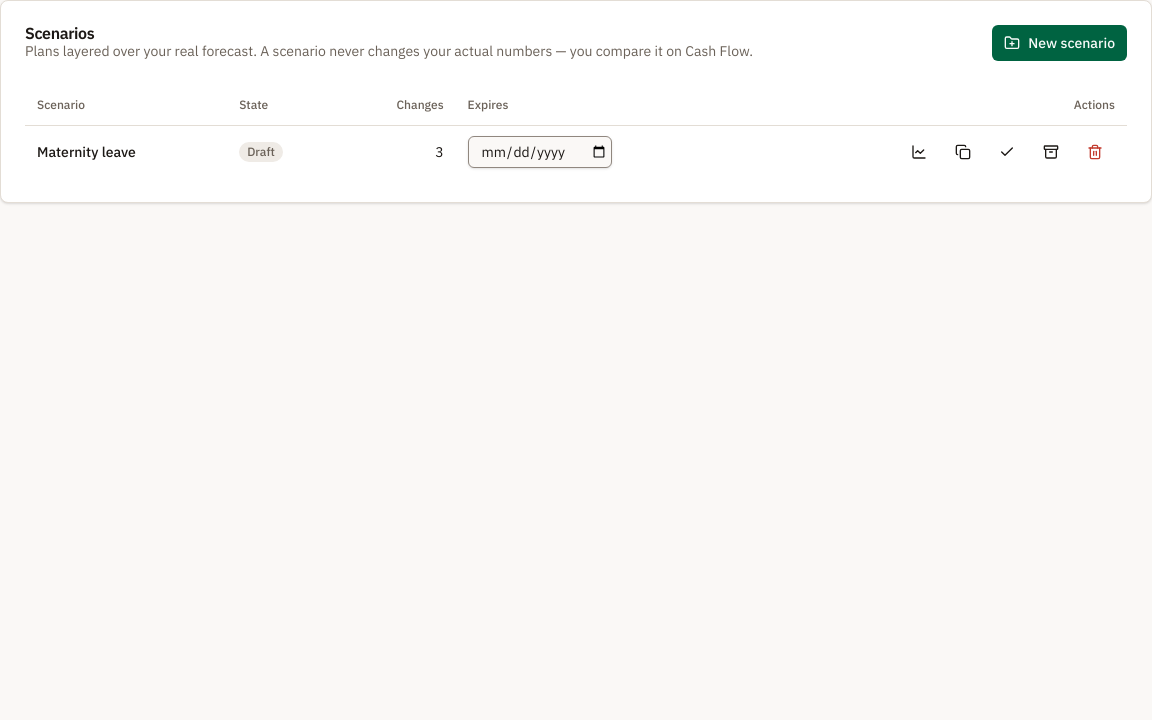
it: ScenariosView (personal-cfo-4d8.27.6.1 / .6.6) › cancelling the delete dialog deletes nothing
Click the button named "delete maternity leave": (1095, 152) [1075,134,1115,170]
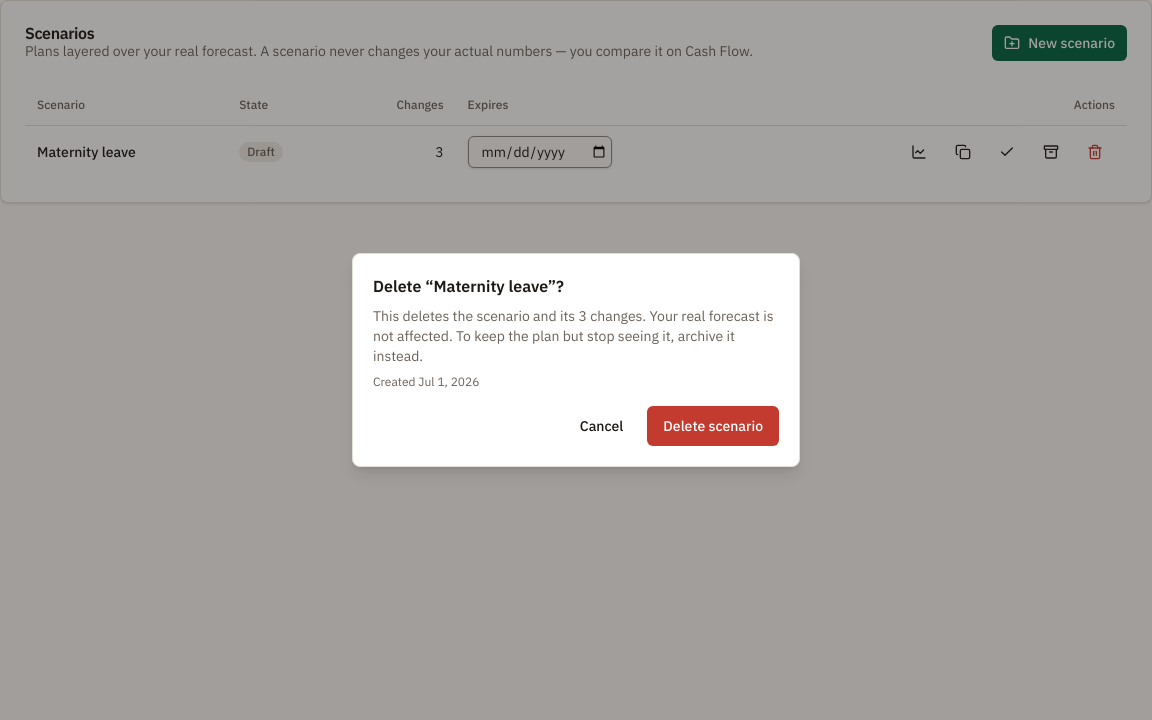
Click the button "Cancel": (602, 426) [564,406,639,446]
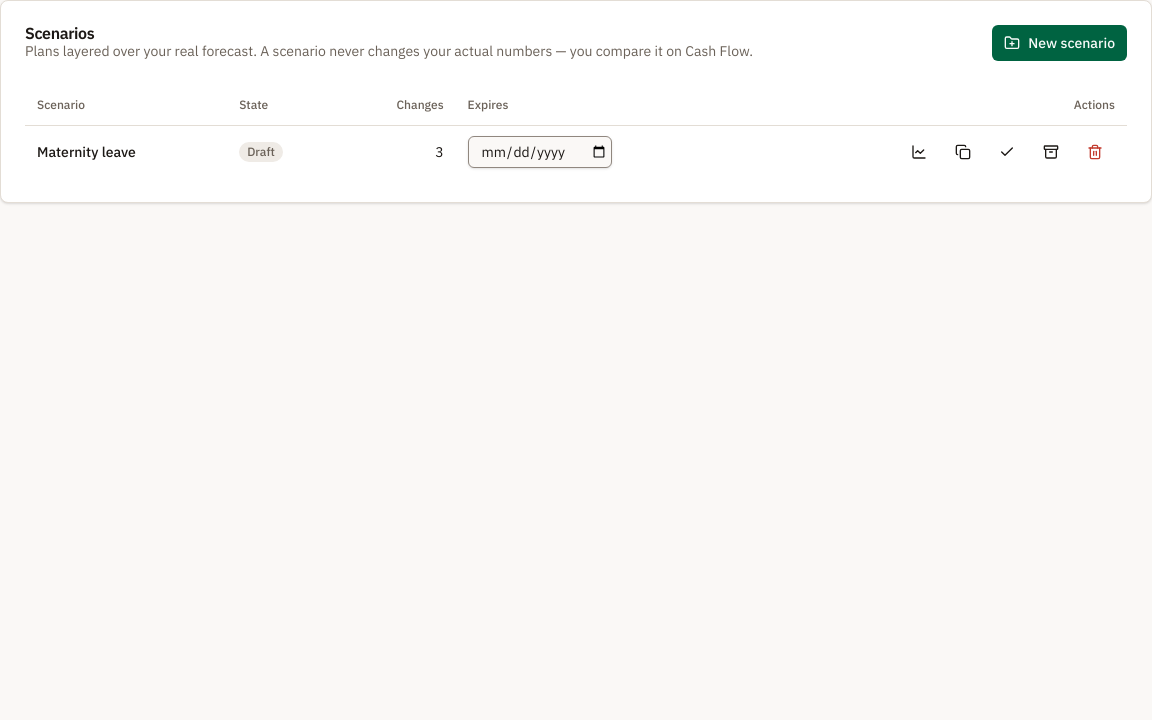
expect the dialog is gone: met
